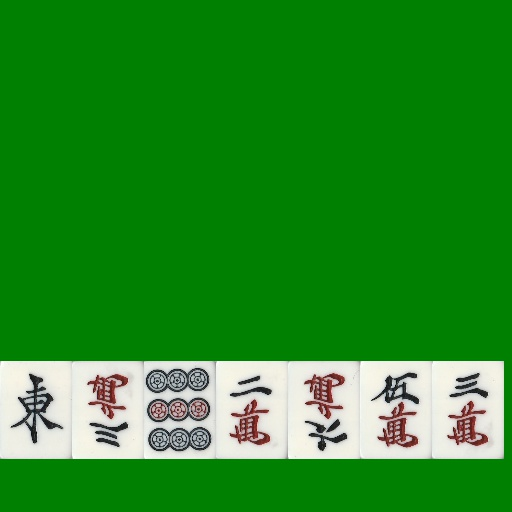2m: (216, 361, 288, 459)
3m: (72, 361, 144, 459), (432, 361, 504, 459)
5m: (360, 361, 432, 459)
6m: (288, 361, 360, 459)
9p: (144, 361, 216, 459)
east: (0, 361, 72, 459)
